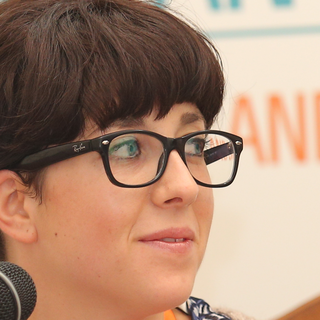eye: (103, 135, 149, 164), (175, 131, 212, 161)
